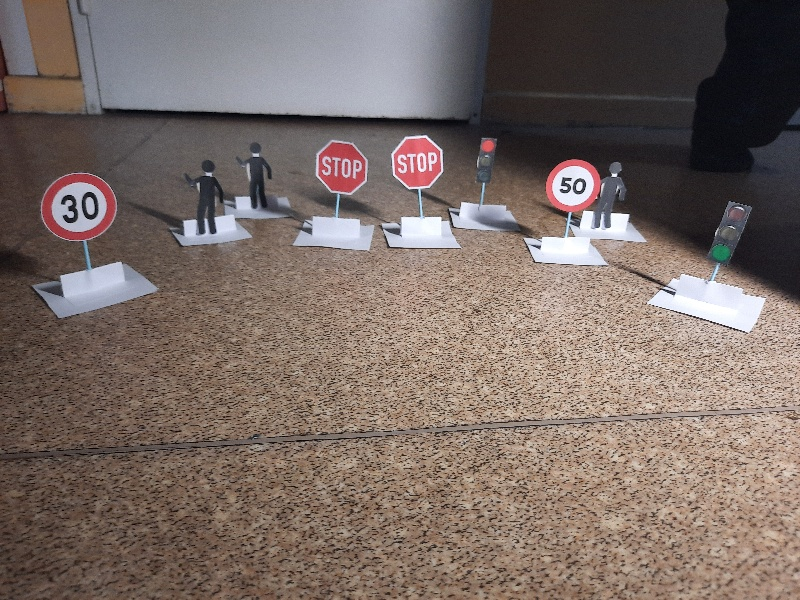Green: (708, 193, 749, 266)
Limit 30: (41, 172, 115, 240)
Limit 50: (548, 158, 597, 210)
Person: (186, 162, 224, 233), (592, 161, 630, 229), (237, 144, 274, 207)
Red: (475, 136, 498, 182)
Stop: (392, 135, 443, 187), (316, 141, 367, 192)
